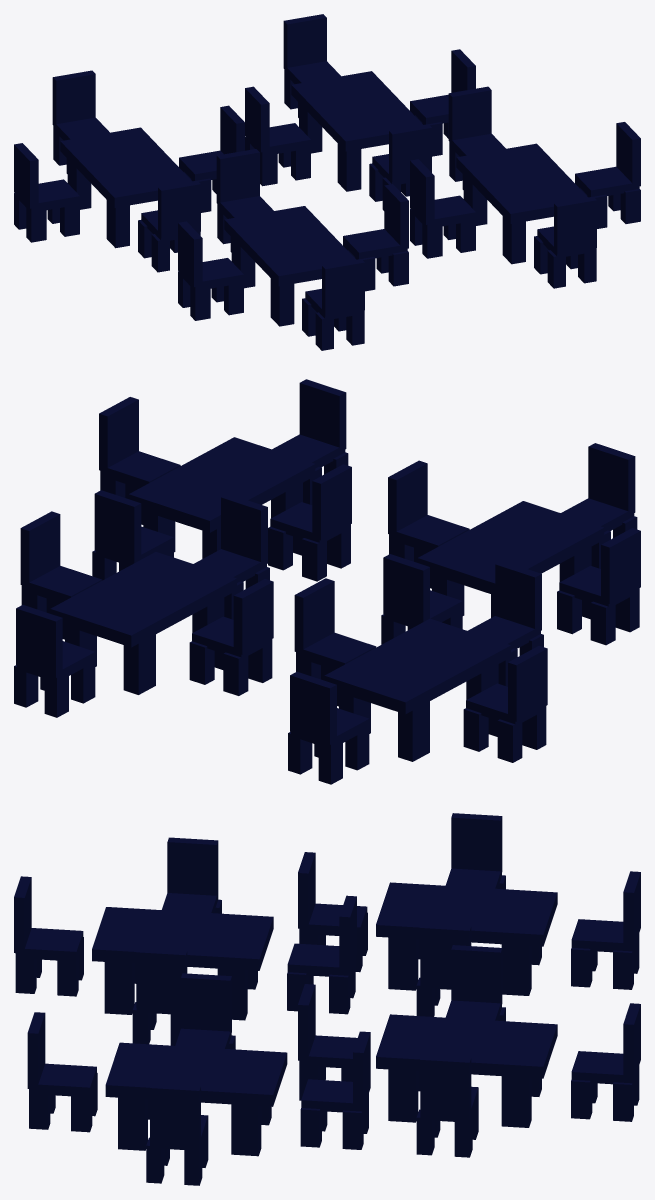
File: cafe.glb
The picture shows the model from 3 angles, top to bottom: view 1: azimuth 30°, elevation 25°; view 2: azimuth 150°, elevation 25°; view 3: azimuth 270°, elevation 25°; orthographic projection. The views are drawn at different scales.
Parts seen in each view (by area): view 1: Cube.004, Cube.007, Cube.335, Cube.014, Cube.006, Cube.015, Cube.334, Cube.005, Cube.012, Cube.009, Cube.008, Cube.013 (+8 smaller); view 2: Cube.004, Cube.335, Cube.005, Cube.334, Cube.014, Cube.007, Cube.015, Cube.006, Cube.338, Cube.001, Cube.012, Cube.009 (+8 smaller); view 3: Cube.335, Cube.014, Cube.004, Cube.007, Cube.005, Cube.334, Cube.015, Cube.006, Cube.003, Cube.013, Cube.012, Cube.009 (+8 smaller).
Boxes of the visible parts, left/top/right/bottom form: Cube.004: left=291, top=71, right=422, bottom=151; Cube.007: left=224, top=206, right=355, bottom=286; Cube.335: left=60, top=127, right=191, bottom=207; Cube.014: left=456, top=143, right=587, bottom=223; Cube.006: left=178, top=221, right=294, bottom=326; Cube.015: left=410, top=159, right=525, bottom=264; Cube.334: left=14, top=143, right=129, bottom=248; Cube.005: left=245, top=86, right=361, bottom=191; Cube.012: left=534, top=196, right=596, bottom=288; Cube.009: left=302, top=259, right=364, bottom=350; Cube.008: left=343, top=184, right=408, bottom=291; Cube.013: left=575, top=122, right=640, bottom=228; Cube.004: left=50, top=552, right=236, bottom=647; Cube.335: left=324, top=618, right=510, bottom=714; Cube.005: left=65, top=579, right=273, bottom=695; Cube.334: left=339, top=645, right=547, bottom=762; Cube.014: left=128, top=437, right=315, bottom=532; Cube.007: left=417, top=501, right=604, bottom=595; Cube.015: left=143, top=464, right=351, bottom=581; Cube.006: left=432, top=528, right=640, bottom=645; Cube.338: left=288, top=671, right=369, bottom=784; Cube.001: left=14, top=605, right=95, bottom=717; Cube.012: left=272, top=379, right=348, bottom=504; Cube.009: left=561, top=443, right=637, bottom=568; Cube.335: left=376, top=882, right=557, bottom=946; Cube.014: left=105, top=1042, right=287, bottom=1106; Cube.004: left=376, top=1014, right=557, bottom=1078; Cube.007: left=92, top=907, right=273, bottom=970; Cube.005: left=388, top=945, right=541, bottom=1127; Cube.334: left=388, top=813, right=541, bottom=995; Cube.015: left=118, top=973, right=271, bottom=1156; Cube.006: left=104, top=837, right=257, bottom=1020; Cube.003: left=416, top=1055, right=478, bottom=1157; Cube.013: left=146, top=1083, right=208, bottom=1185; Cube.012: left=27, top=1012, right=97, bottom=1132; Cube.009: left=14, top=876, right=83, bottom=996.
Bounding box in the file's own units: 10.67 × 1.81 × 10.17.
